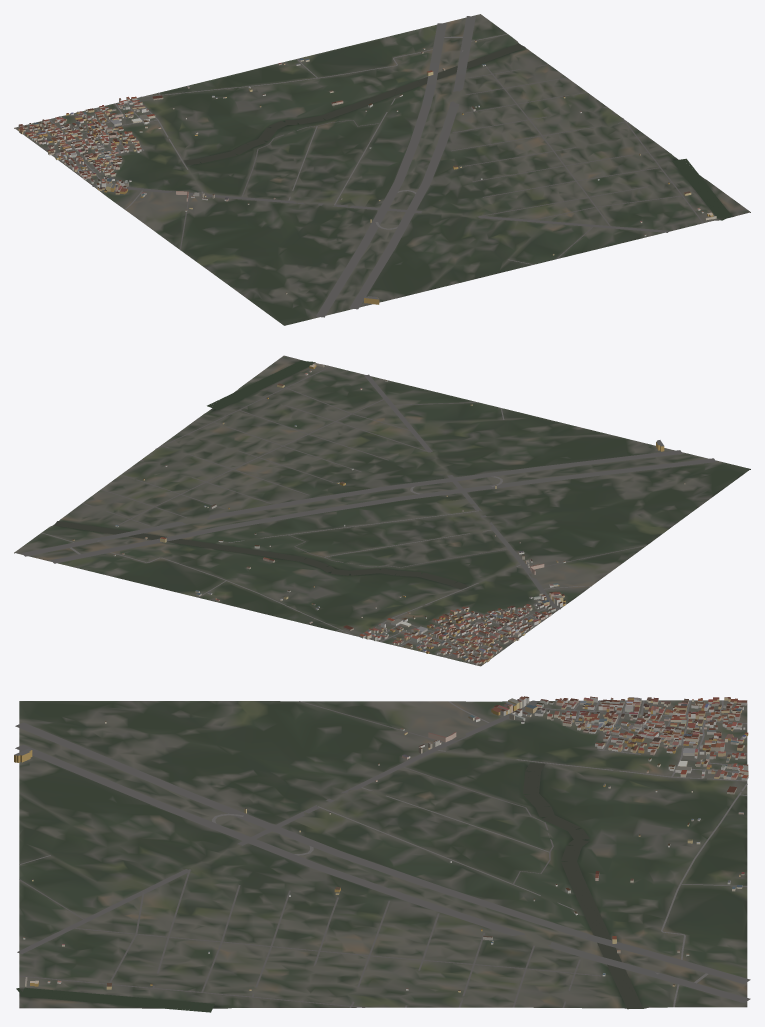
3 views of the same model, one above another, from view 1: azimuth 30°, elevation 25°; view 2: azimuth 150°, elevation 25°; view 3: azimuth 270°, elevation 25° (orthographic). The views are drawn at different scales.
Parts seen in each view (by area): view 1: ground, roads, buildings, water; view 2: ground, roads, buildings, water; view 3: ground, roads, buildings, water.
Boxes of the visible parts, x1,y1,x2,y2 form: ground: (14,14,750,325); roads: (24,16,703,317); buildings: (18,40,716,304); water: (184,43,732,220); ground: (14,355,750,666); roads: (21,366,715,658); buildings: (72,362,685,665); water: (54,360,468,589); ground: (19,700,747,1008); roads: (15,700,750,1007); buildings: (14,696,748,992); water: (16,762,642,1012).
Size of the model in its own units: 1424 by 20.59 by 1419.
